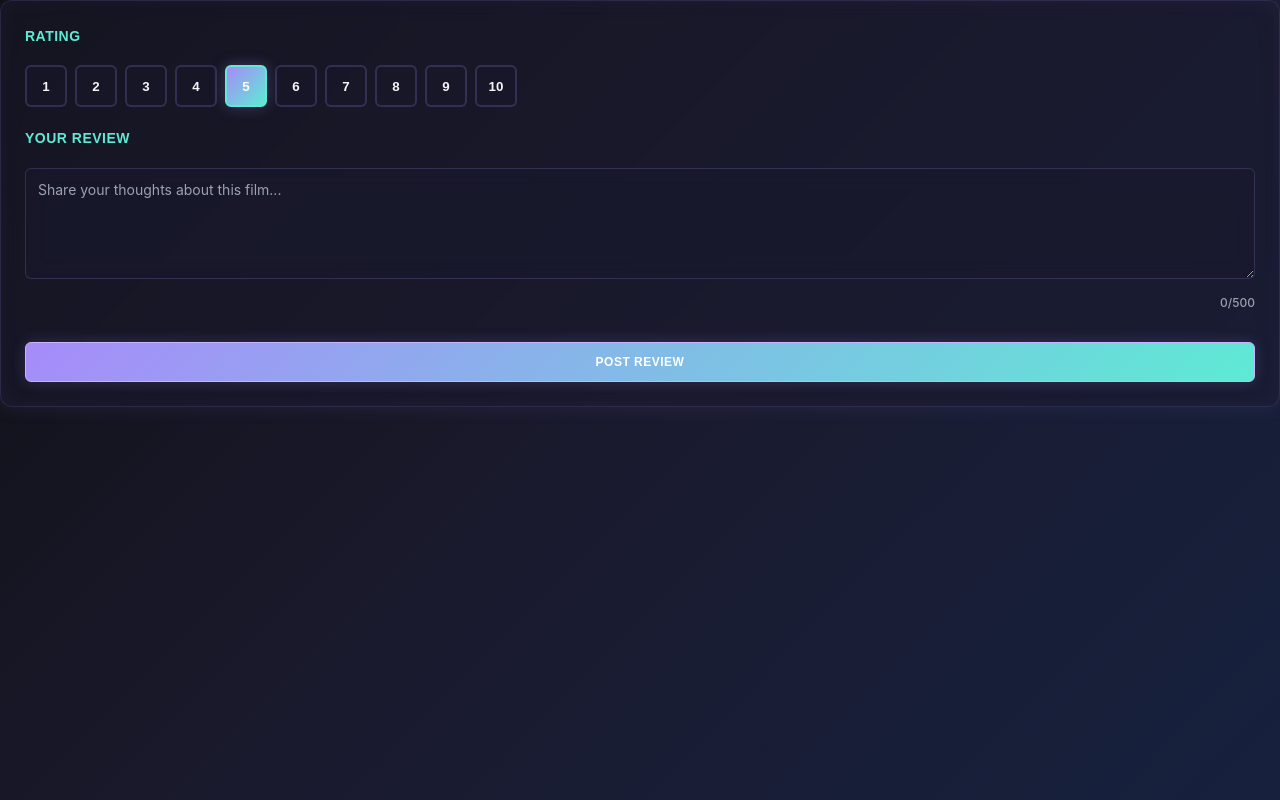
it: ReviewForm Component › disables submit button while loading
The image size is (1280, 800).
In the text box with placeholder "Share your thoughts about this film...": (640, 223) [25,168,1255,279], type "Test"
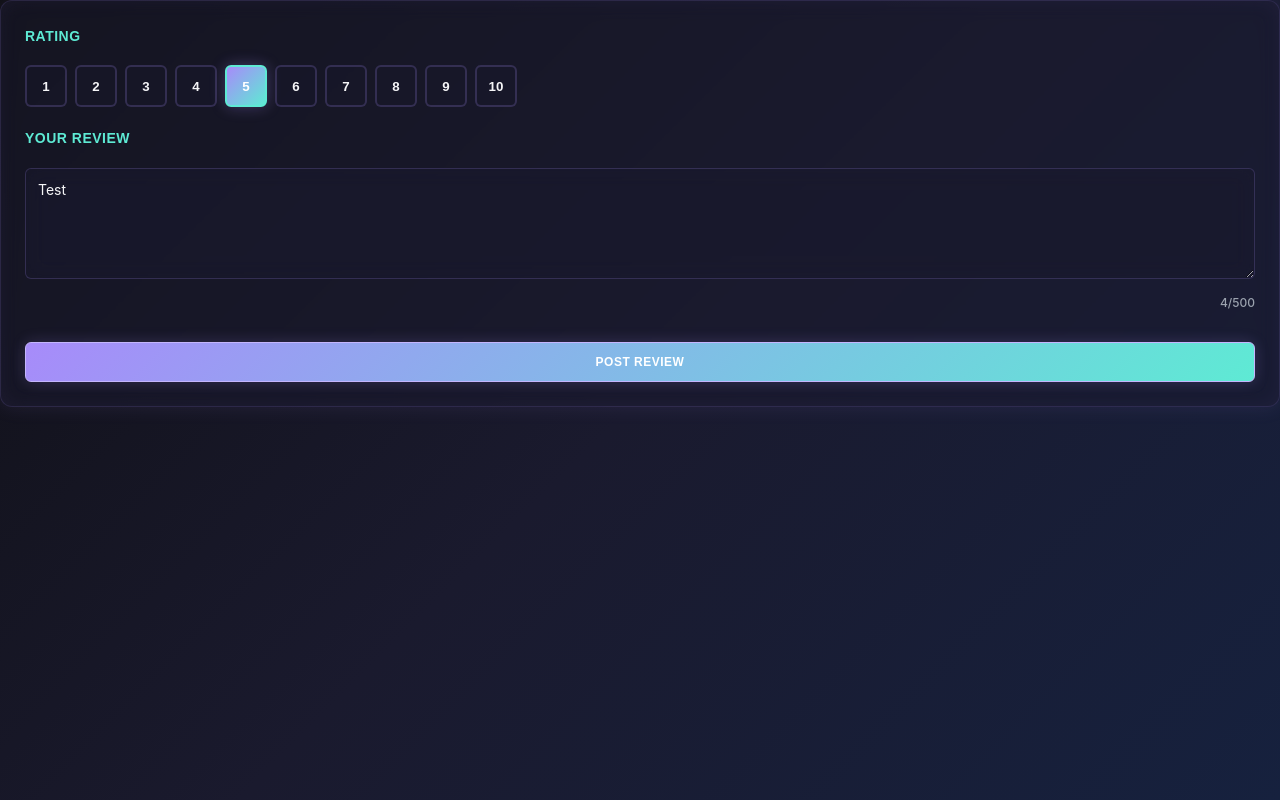
Click the button "Post Review": (640, 362) [25,342,1255,382]
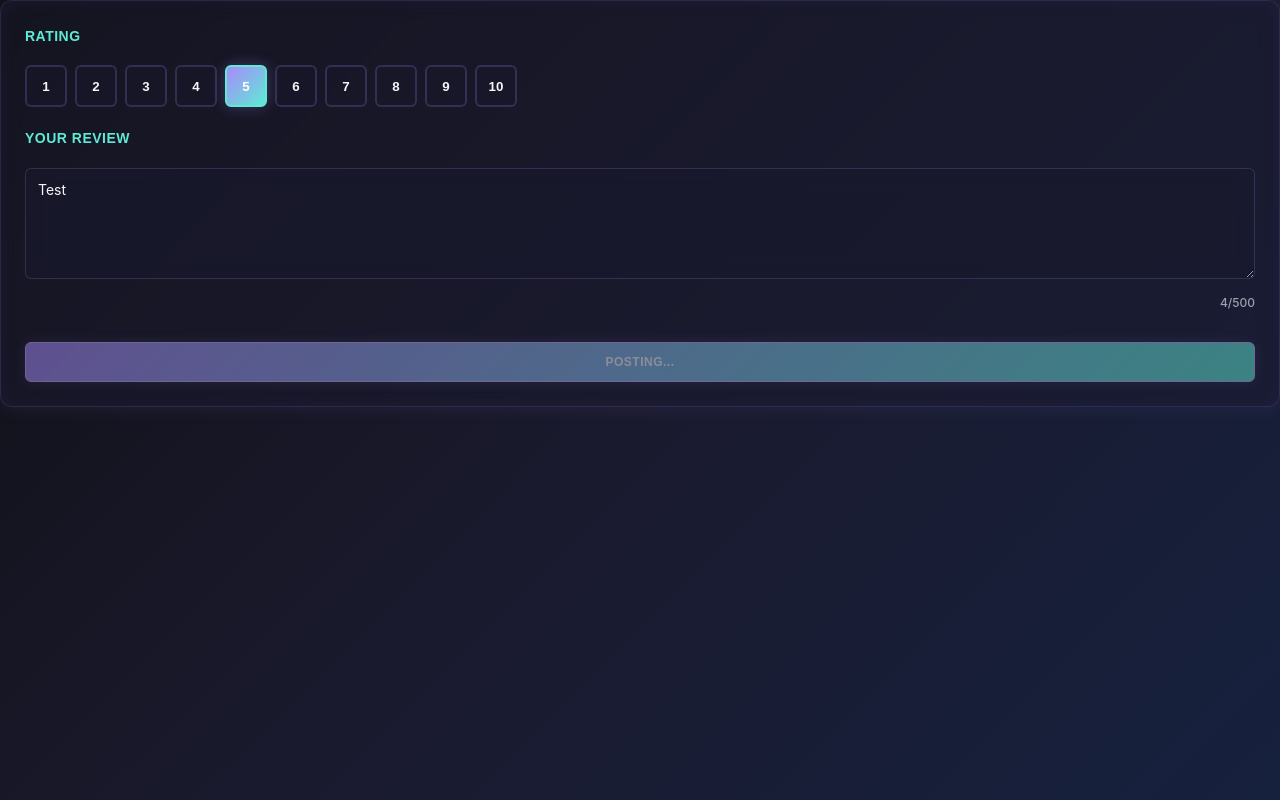
Result: the button "Post Review" is disabled at [25,342,1255,382]
